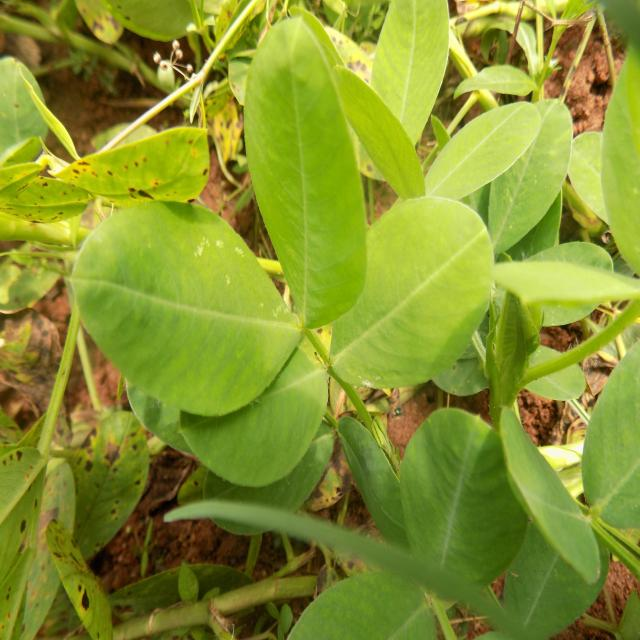Ground nut_healthy: (70, 200, 300, 419), (245, 17, 371, 326), (328, 192, 498, 389), (395, 406, 527, 600)
